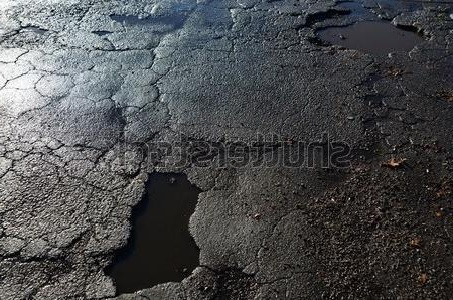pothole: (102, 167, 209, 295), (304, 6, 436, 58), (207, 263, 263, 299), (0, 21, 50, 48)
